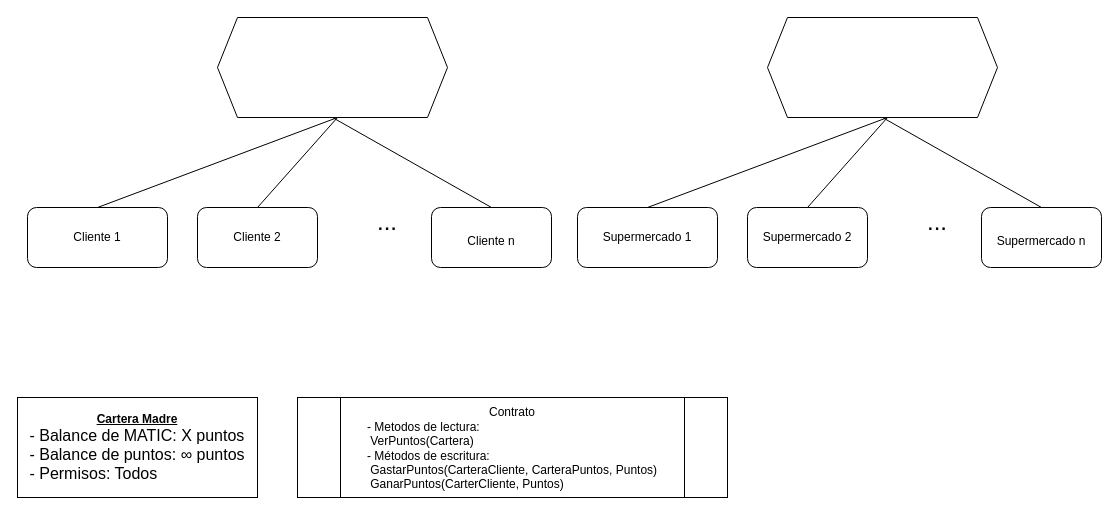
Image size: 1119x515. Some labels were removed from this diagram. The shapes that lost their labels are listed below. From the top down, each one's centre as x and y in pixels, then its label:
At [332,67]: "Carteras de clientes - Balance: X puntos".
At [882,67]: "Carteras de supermercados - Balance: X puntos donados".
